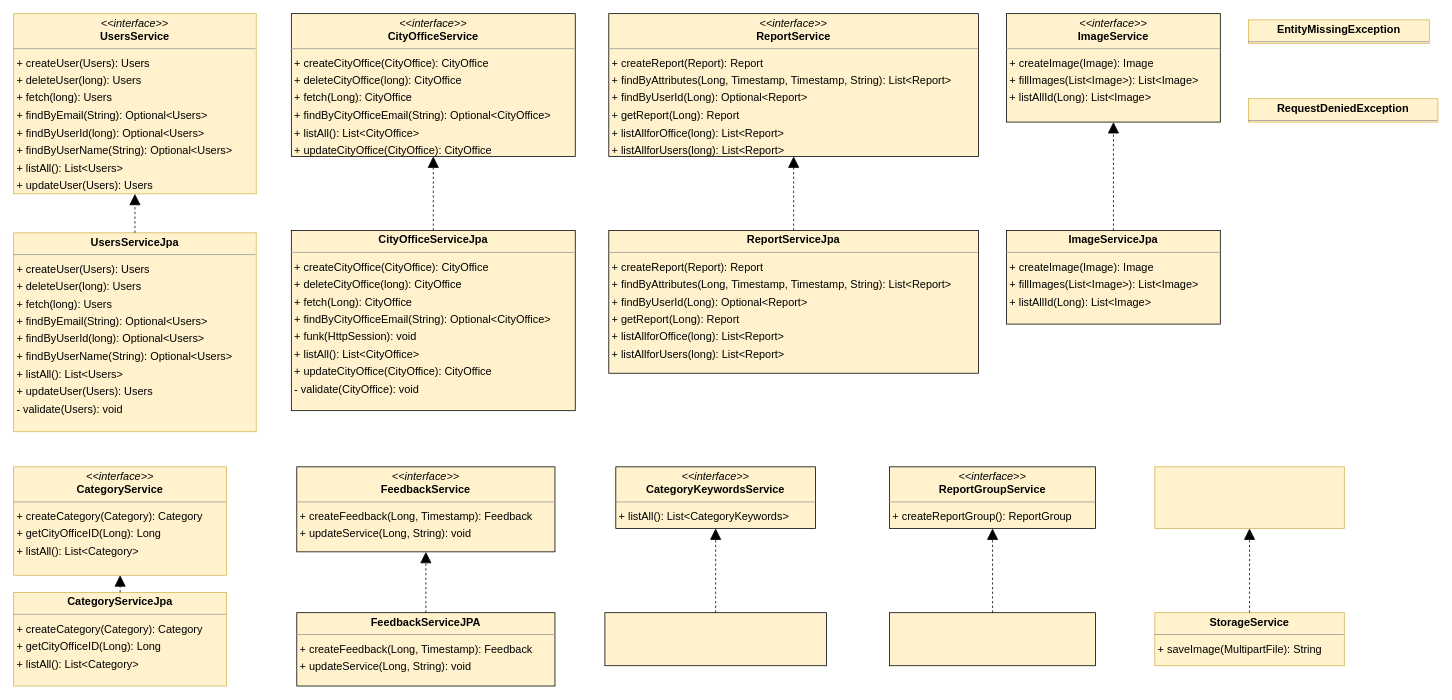
This 1452x700 diagram has some shape labels left out. Each missing label, with the centre of its shape:
"<<interface>> IStorageService + saveImage(MultipartFile): String" belongs at (x=1249, y=497).
"CategoryKeywordsServiceJpa + listAll(): List<CategoryKeywords>" belongs at (x=715, y=639).
"ReportGroupServiceJPA + createReportGroup(): ReportGroup" belongs at (x=992, y=639).
